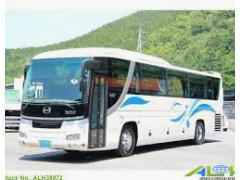bus: (19, 49, 224, 156)
